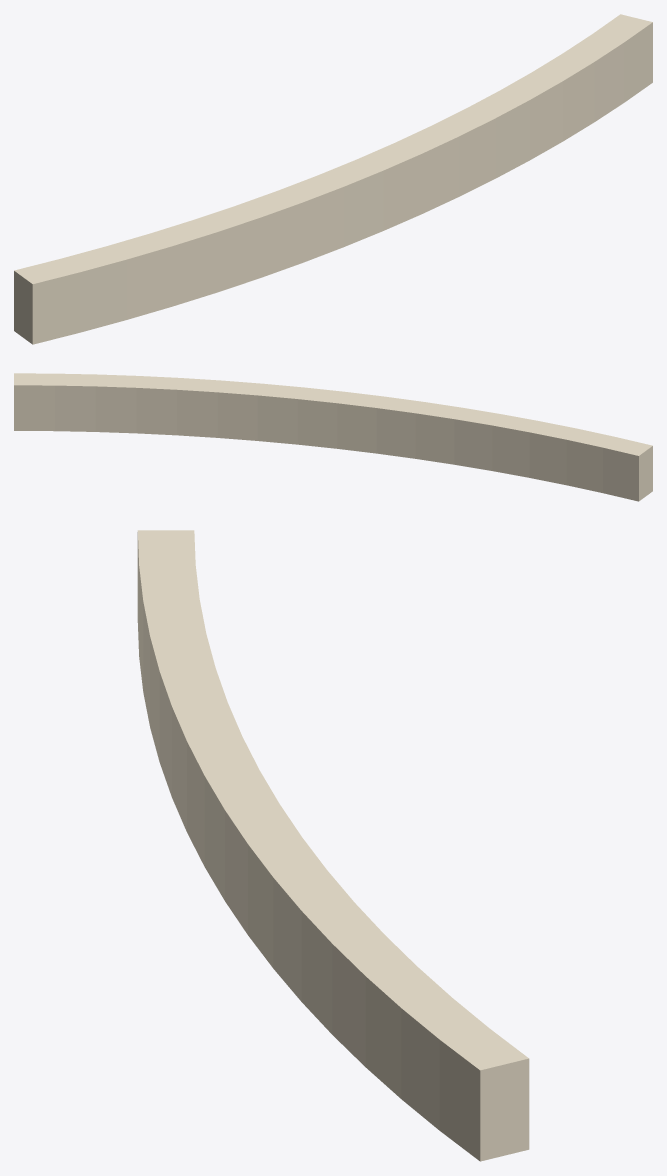
Rendered from ArcBand_R4_A30.glb.
3 views of the same model, one above another, from view 1: azimuth 30°, elevation 25°; view 2: azimuth 150°, elevation 25°; view 3: azimuth 270°, elevation 25° (orthographic). The views are drawn at different scales.
Parts seen in each view (by area): view 1: PBK_Band.006; view 2: PBK_Band.006; view 3: PBK_Band.006.
Part boxes in pixels (<box>): PBK_Band.006: <box>14,14,652,344</box>; PBK_Band.006: <box>14,373,652,501</box>; PBK_Band.006: <box>137,530,529,1161</box>.
Size of the model in its own units: 2.03 by 0.16 by 0.6225.
